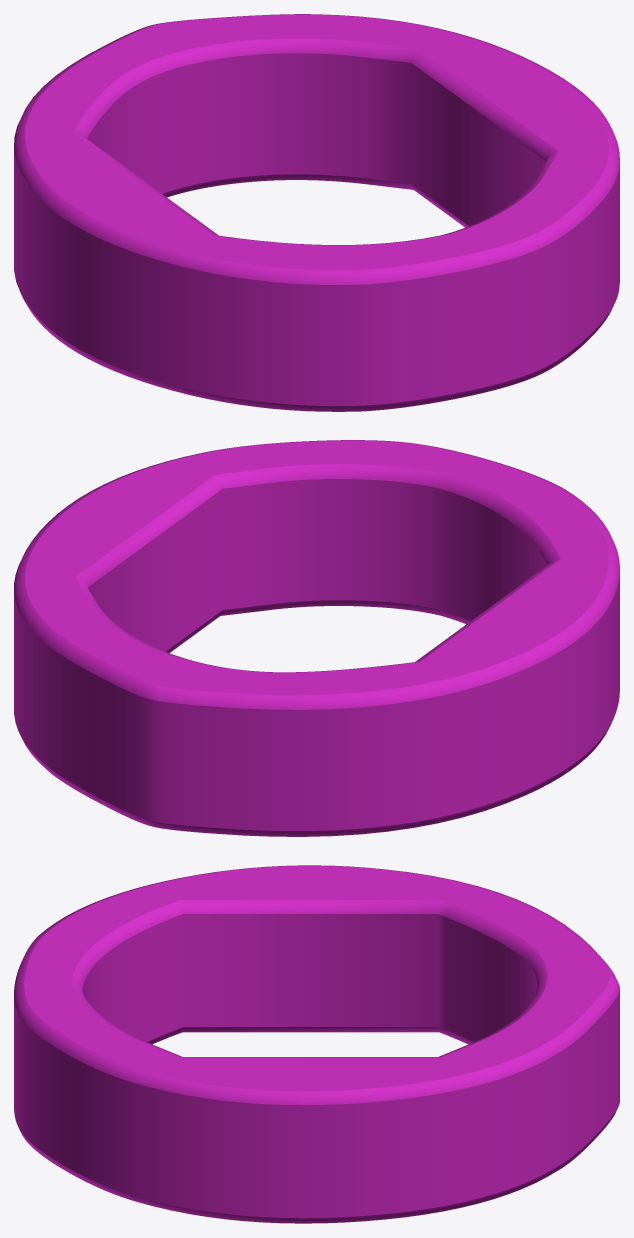
The model's file is Letter_O.fbx.
3 renders of one model, top to bottom at view 1: azimuth 30°, elevation 25°; view 2: azimuth 150°, elevation 25°; view 3: azimuth 270°, elevation 25°, orthographic. The views are drawn at different scales.
Visible parts, largest first — view 1: Letter_O; view 2: Letter_O; view 3: Letter_O.
Boxes of the visible parts, x1=… form: Letter_O: x1=14, y1=14, x2=619, y2=411; Letter_O: x1=14, y1=440, x2=619, y2=836; Letter_O: x1=14, y1=865, x2=619, y2=1223.
Size of the model in its own units: 0.5336 by 0.14 by 0.583.
